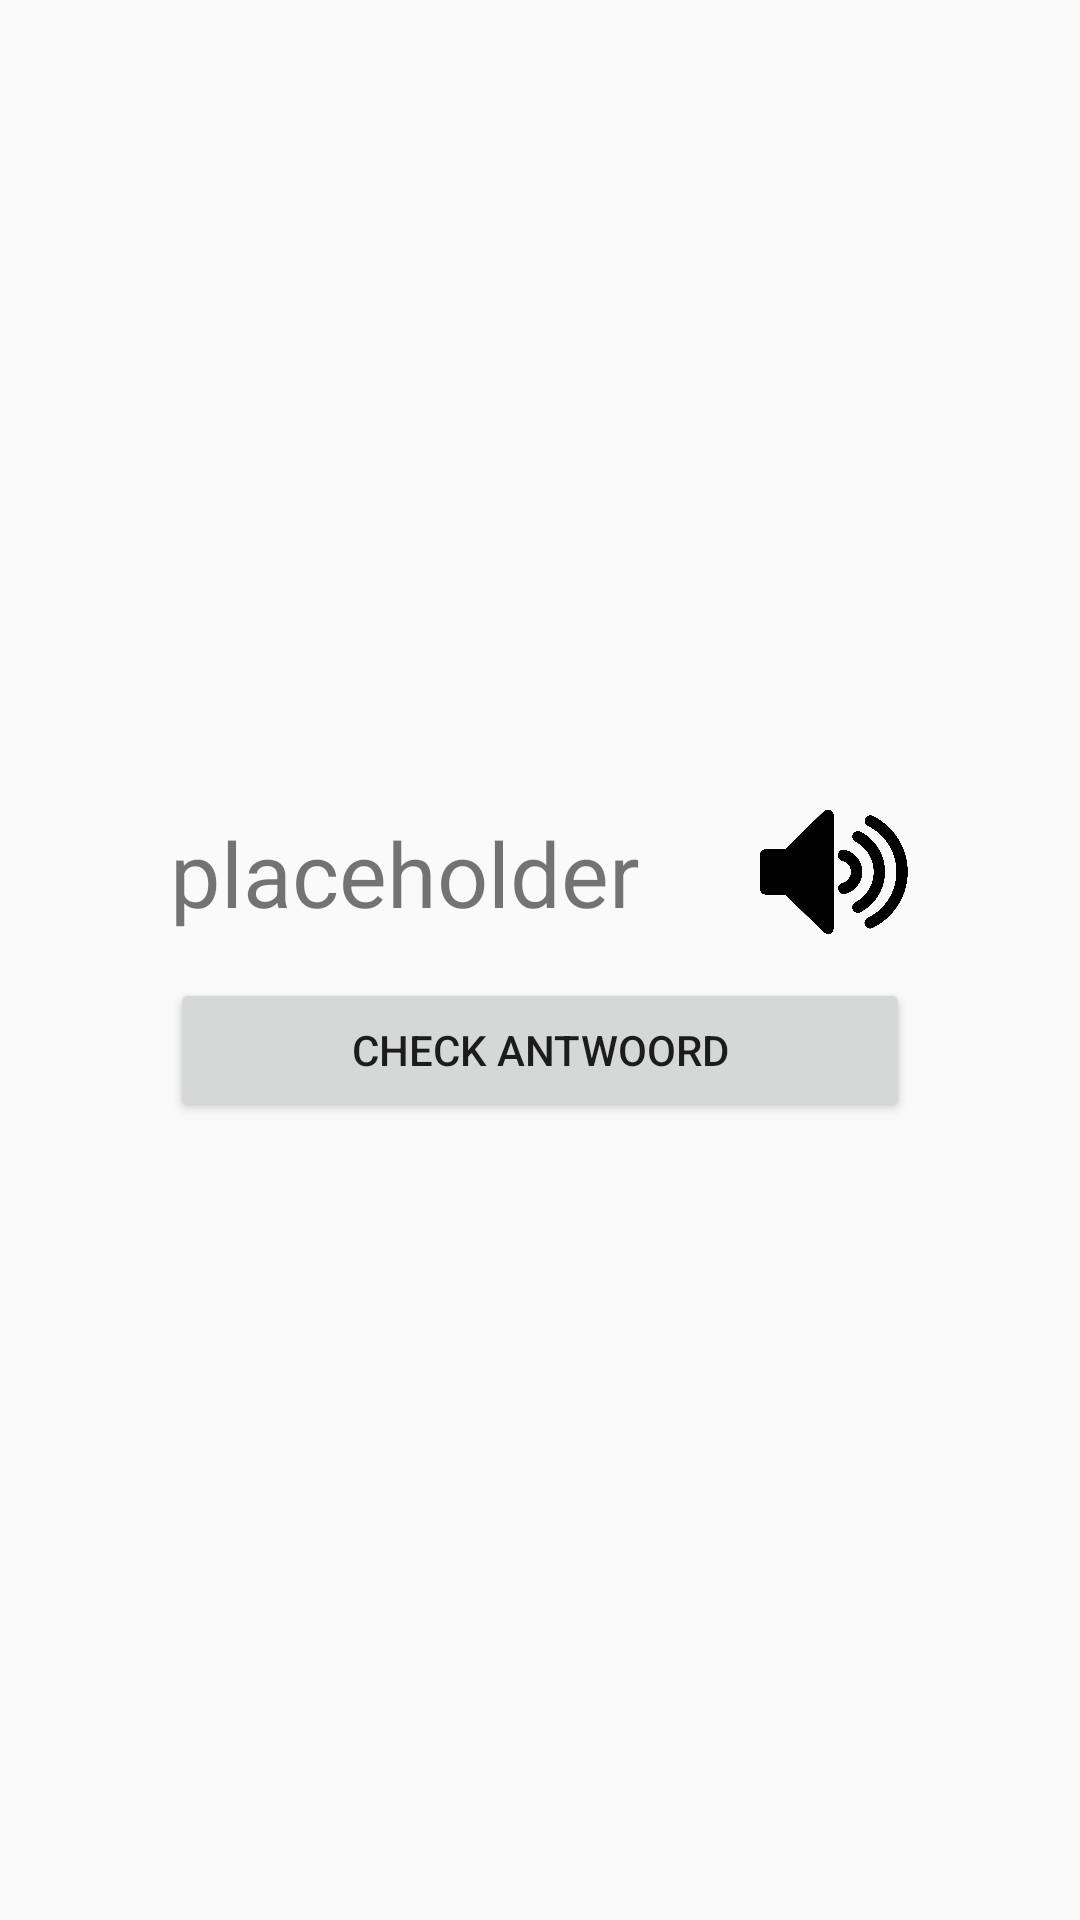

Where to tap for icons on this 1080px×1920px app screen, as (x=x, y=y):
audioicon: (x=834, y=872)
